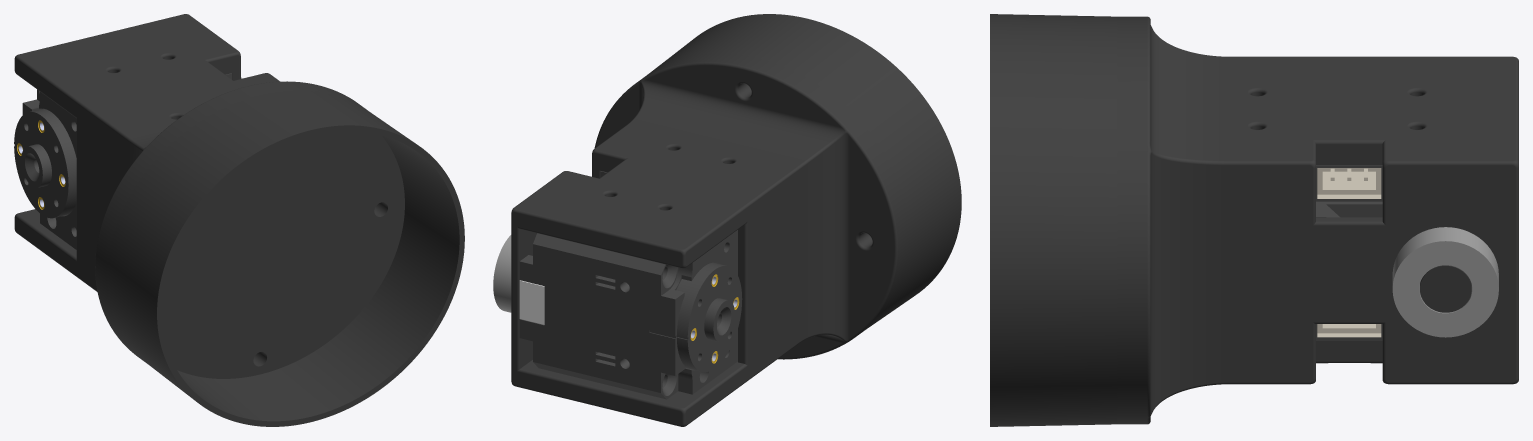
File: right_wrs_upp_link.dae
3 renders of one model, left to right at view 1: azimuth 30°, elevation 25°; view 2: azimuth 150°, elevation 25°; view 3: azimuth 270°, elevation 25°, orthographic. The views are drawn at different scales.
Parts seen in each view (by area): view 1: right_wrs_upp_link; view 2: right_wrs_upp_link; view 3: right_wrs_upp_link.
Part boxes in pixels (x1,y1,x2,y2): right_wrs_upp_link: (14,14,464,426); right_wrs_upp_link: (493,14,961,426); right_wrs_upp_link: (990,14,1518,426).
Bounding box in the file's own units: 0.0672 × 0.0795 × 0.061.
